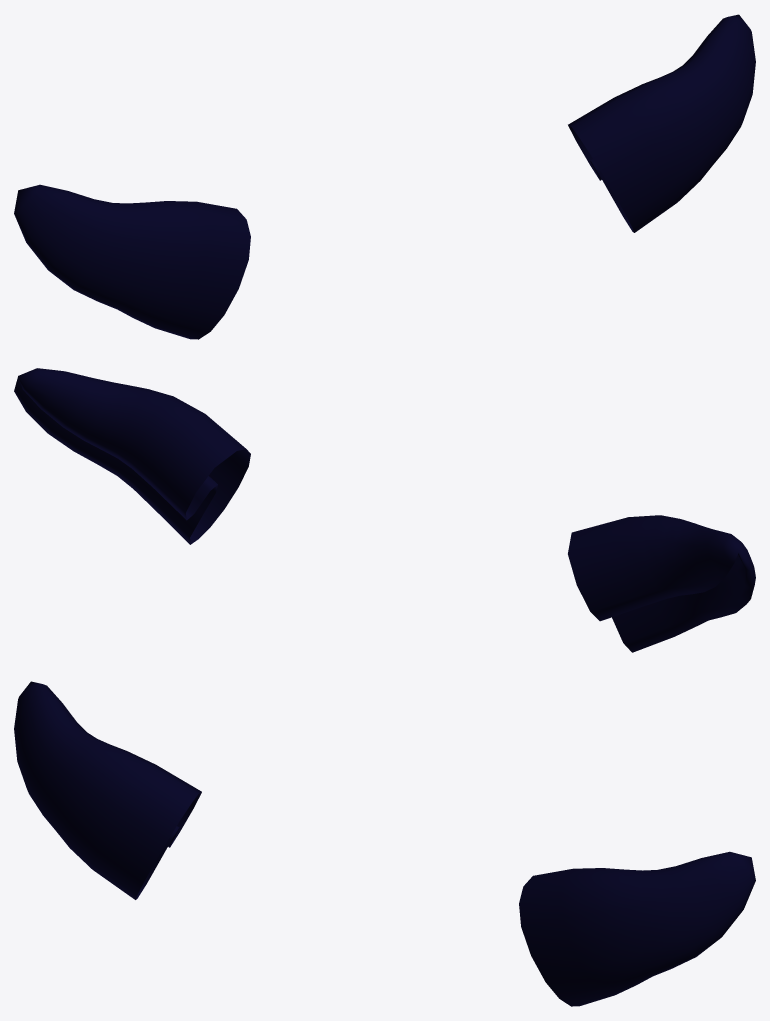
Rendered from doremy_ears.glb.
The picture shows the model from 3 angles, top to bottom: view 1: azimuth 30°, elevation 25°; view 2: azimuth 150°, elevation 25°; view 3: azimuth 330°, elevation 25°; orthographic projection.
Parts seen in each view (by area): view 1: doremy_ears; view 2: doremy_ears; view 3: doremy_ears.
Boxes of the visible parts, box(x1,y1,x2,y2) form: doremy_ears: box(14, 14, 755, 339); doremy_ears: box(14, 368, 755, 652); doremy_ears: box(14, 681, 755, 1006).
Size of the model in its own units: 1.69 by 0.3608 by 0.2106.
